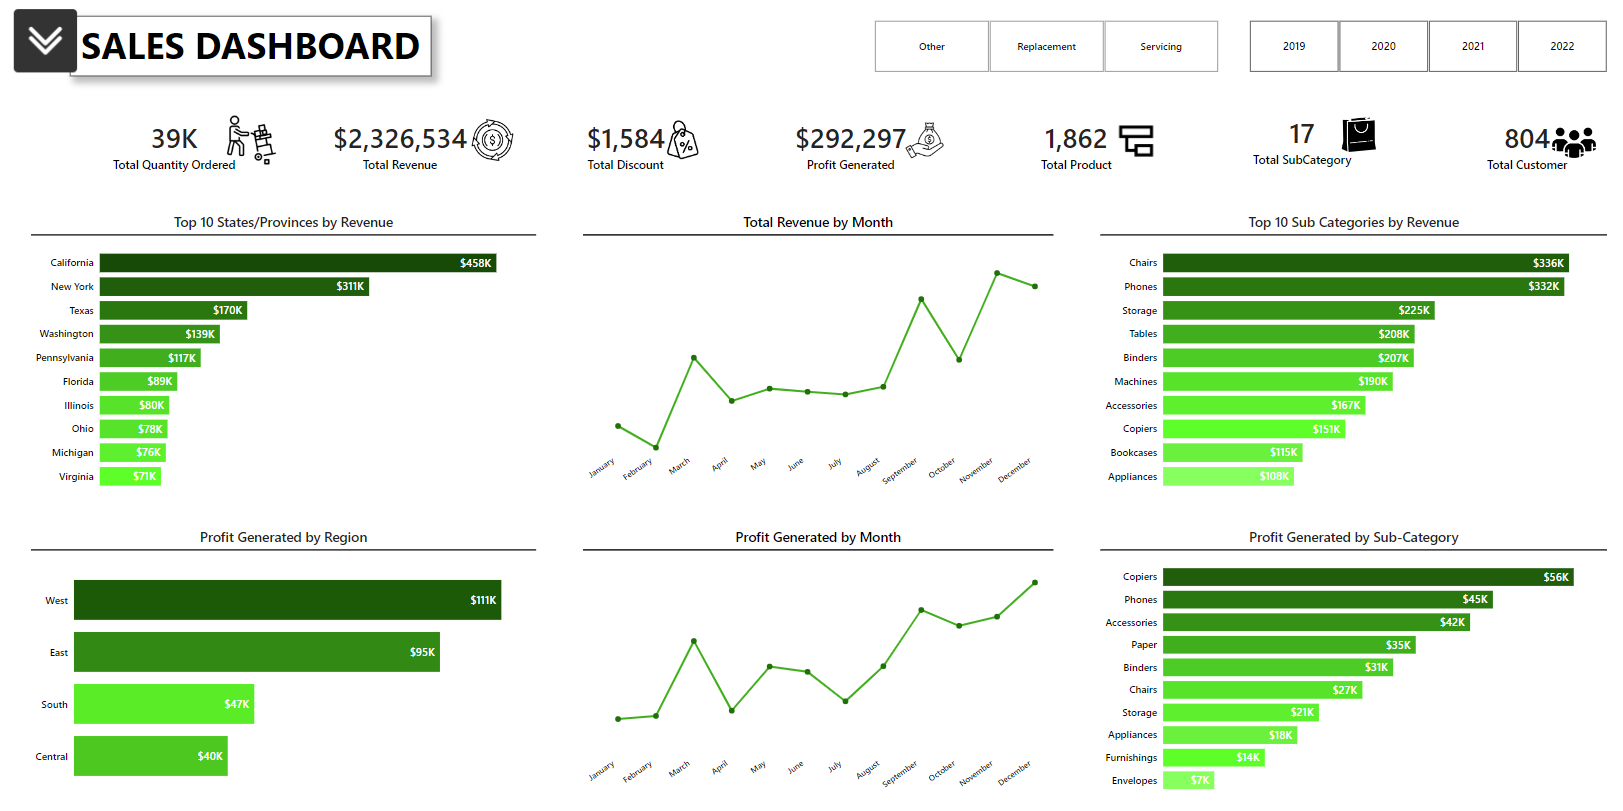

What the dashboard file says about the page in this screenshot:
{"tool":"powerbi","page":{"name":" SALES","canvas":[2400,1200],"ordinal":0},"visuals":[{"type":"textbox","box":[110.6,26.5,532.9,88.5],"z":0},{"type":"image","box":[17.7,11.1,112.8,103.9],"z":1000},{"type":"slicer","fields":{"Values":["Orders.Order Date.Variation.Date Hierarchy.Year"]},"box":[1824.4,26.7,575.6,88.9],"z":2000},{"type":"image","box":[328.9,168.9,97.8,82.2],"z":3000},{"type":"image","box":[686.7,168.9,91.1,82.2],"z":4000},{"type":"card","fields":{"Values":["Orders.Total Quantity Ordered"]},"box":[131.1,157.8,266.7,117.8],"z":5000},{"type":"image","box":[966.7,168.9,95.6,82.2],"z":6000},{"type":"card","fields":{"Values":["Orders.Total Sales"]},"box":[462.6,157.8,268.9,117.8],"z":7000},{"type":"image","box":[1324.4,168.9,91.1,82.2],"z":8000},{"type":"card","fields":{"Values":["Orders.Total Discount"]},"box":[796.3,157.8,266.7,117.8],"z":9000},{"type":"image","box":[1644.4,177.8,73.3,66.7],"z":10000},{"type":"card","fields":{"Values":["Orders.Profit Generated"]},"box":[1127.8,157.8,266.7,117.8],"z":11000},{"type":"image","box":[1962.2,168.9,97.8,66.7],"z":12000},{"type":"card","fields":{"Values":["Orders.Total SubCategory"]},"box":[1793,151.1,266.7,117.8],"z":13000},{"type":"card","fields":{"Values":["Orders.Total Product"]},"box":[1459.3,157.8,268.9,117.8],"z":14000},{"type":"clusteredBarChart","fields":{"Category":["Orders.Region"],"Y":["Orders.Profit Generated"]},"box":[53.3,780,744.4,404.4],"z":15000},{"type":"clusteredBarChart","title":"Top 10 States/Provinces by Revenue","fields":{"Y":["Orders.Total Sales"],"Category":["Orders.State/Province"]},"box":[53.3,315.6,744.4,422.2],"z":16000},{"type":"clusteredBarChart","title":"Top 10 Sub Categories by Revenue","fields":{"Category":["Orders.Sub-Category"],"Y":["Orders.Total Sales"]},"box":[1628.9,315.6,746.7,422.2],"z":17000},{"type":"clusteredBarChart","fields":{"Category":["Orders.Sub-Category"],"Y":["Orders.Profit Generated"]},"box":[1628.9,780,746.7,404.4],"z":18000},{"type":"lineChart","title":"Total Revenue by Month","fields":{"Category":["Orders.Order Date.Variation.Date Hierarchy.Month"],"Y":["Orders.Total Sales"]},"box":[866.7,315.6,693.3,422.2],"z":19000},{"type":"lineChart","title":"Profit Generated by Month","fields":{"Category":["Orders.Order Date.Variation.Date Hierarchy.Month"],"Y":["Orders.Profit Generated"]},"box":[866.7,780,693.3,404.4],"z":20000},{"type":"slicer","fields":{"Values":["Orders.Segment"]},"box":[1271.1,26.7,555.6,88.9],"z":21000},{"type":"card","fields":{"Values":["Orders.Total Customer"]},"box":[2124.4,157.8,266.7,117.8],"z":22000},{"type":"image","box":[2280,175.6,95.6,75.6],"z":23000}]}

Visuals, with their boxes in screenshot pixels (x1, y1, x2, y2), scaled from the page's 2400x1200 canvas onto the 1623x811 screenshot:
textbox: [75, 18, 435, 78]
image: [12, 8, 88, 78]
slicer - Orders.Order Date.Variation.Date Hierarchy.Year: [1234, 18, 1622, 78]
image: [222, 114, 289, 170]
image: [464, 114, 526, 170]
card - Orders.Total Quantity Ordered: [89, 107, 269, 186]
image: [654, 114, 718, 170]
card - Orders.Total Sales: [313, 107, 495, 186]
image: [896, 114, 957, 170]
card - Orders.Total Discount: [538, 107, 719, 186]
image: [1112, 120, 1162, 165]
card - Orders.Profit Generated: [763, 107, 943, 186]
image: [1327, 114, 1393, 159]
card - Orders.Total SubCategory: [1213, 102, 1393, 182]
card - Orders.Total Product: [987, 107, 1169, 186]
clusteredBarChart - Orders.Region x Orders.Profit Generated: [36, 527, 539, 800]
"Top 10 States/Provinces by Revenue" clusteredBarChart: [36, 213, 539, 499]
"Top 10 Sub Categories by Revenue" clusteredBarChart: [1102, 213, 1606, 499]
clusteredBarChart - Orders.Sub-Category x Orders.Profit Generated: [1102, 527, 1606, 800]
"Total Revenue by Month" lineChart: [586, 213, 1055, 499]
"Profit Generated by Month" lineChart: [586, 527, 1055, 800]
slicer - Orders.Segment: [860, 18, 1235, 78]
card - Orders.Total Customer: [1437, 107, 1617, 186]
image: [1542, 119, 1606, 170]
